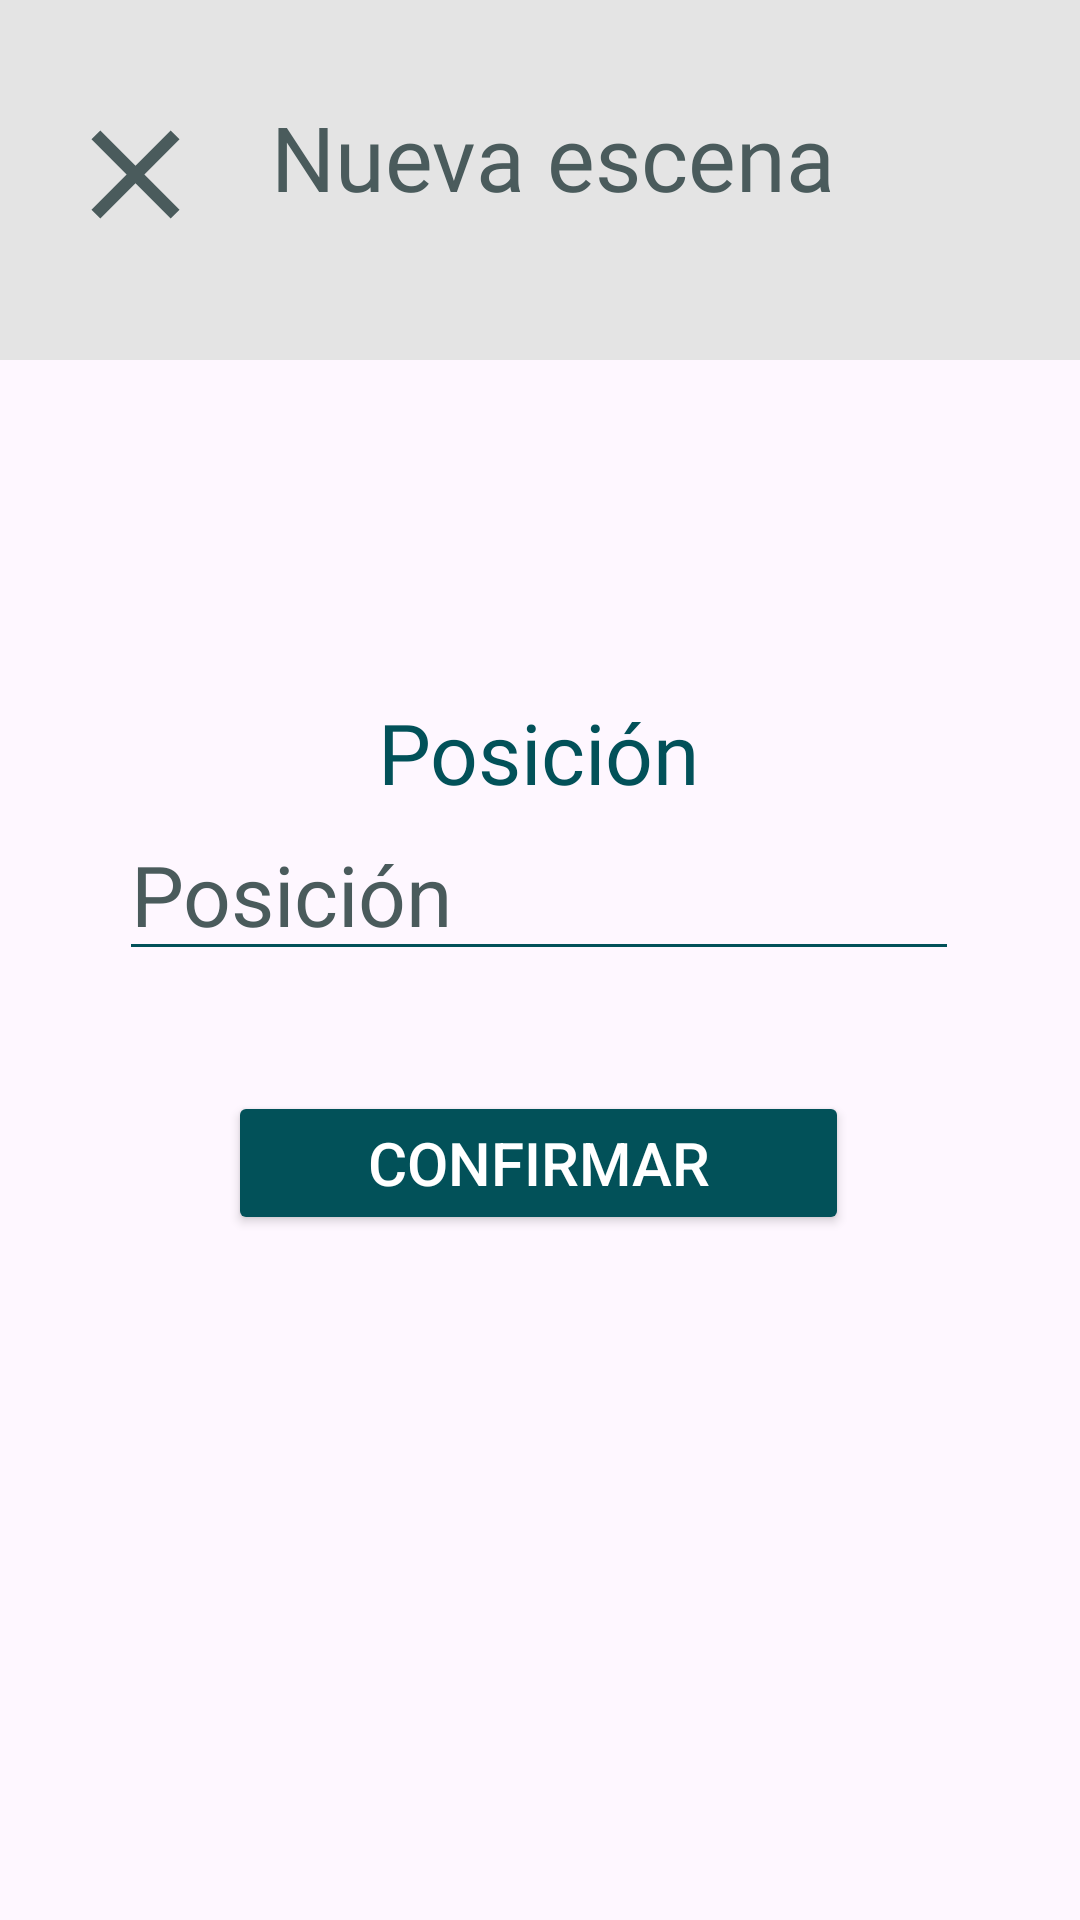

Screen size 1080px×1920px. Icon name, then its box in pixels as (x1, y1, x2, y2):
Parra cerrar el formulario: (91, 130, 180, 219)
